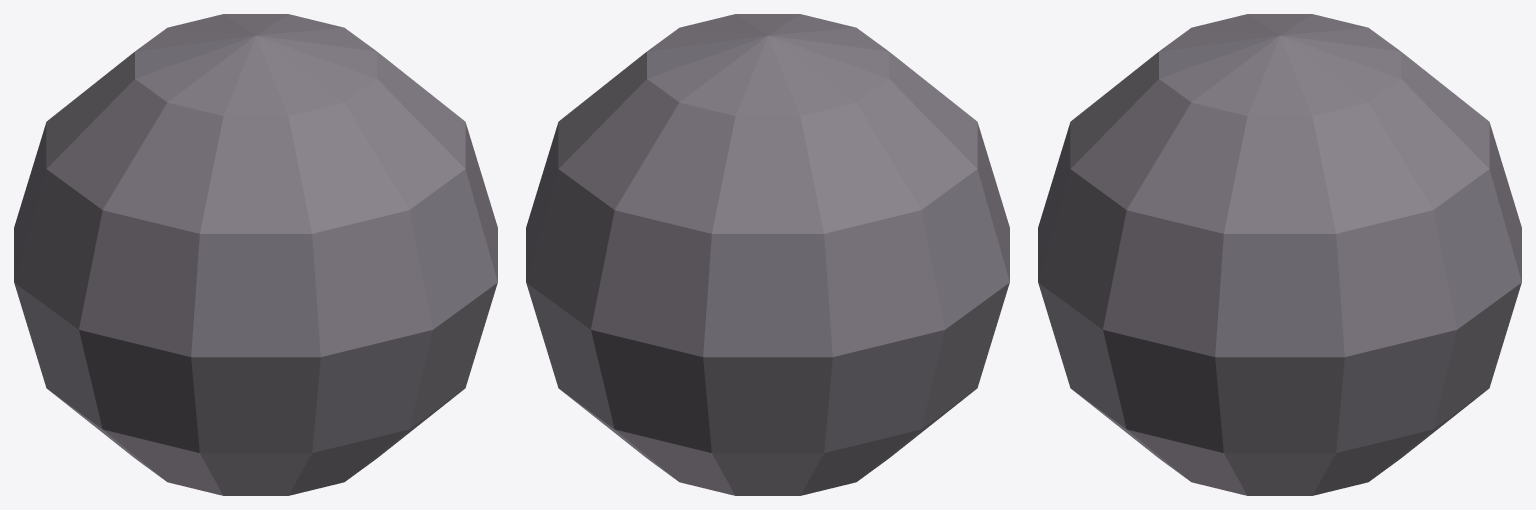
The model's file is Boulder.gltf.
3 renders of one model, left to right at view 1: azimuth 30°, elevation 25°; view 2: azimuth 150°, elevation 25°; view 3: azimuth 270°, elevation 25°, orthographic.
Visible parts, largest first — view 1: sphere; view 2: sphere; view 3: sphere.
Boxes of the visible parts, x1,y1,x2,y2 form: sphere: [14, 14, 497, 495]; sphere: [526, 14, 1009, 495]; sphere: [1038, 14, 1521, 495].
Size of the model in its own units: 1 by 1 by 1.
Materials: 1 (1 with a texture image).
